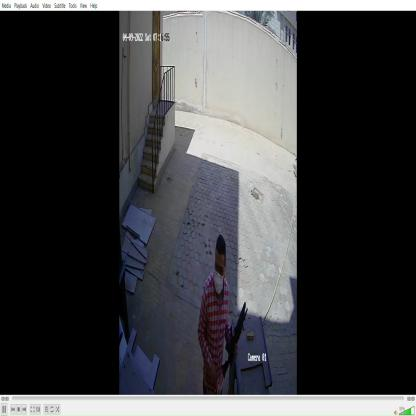handgun: (220, 297, 250, 381)
